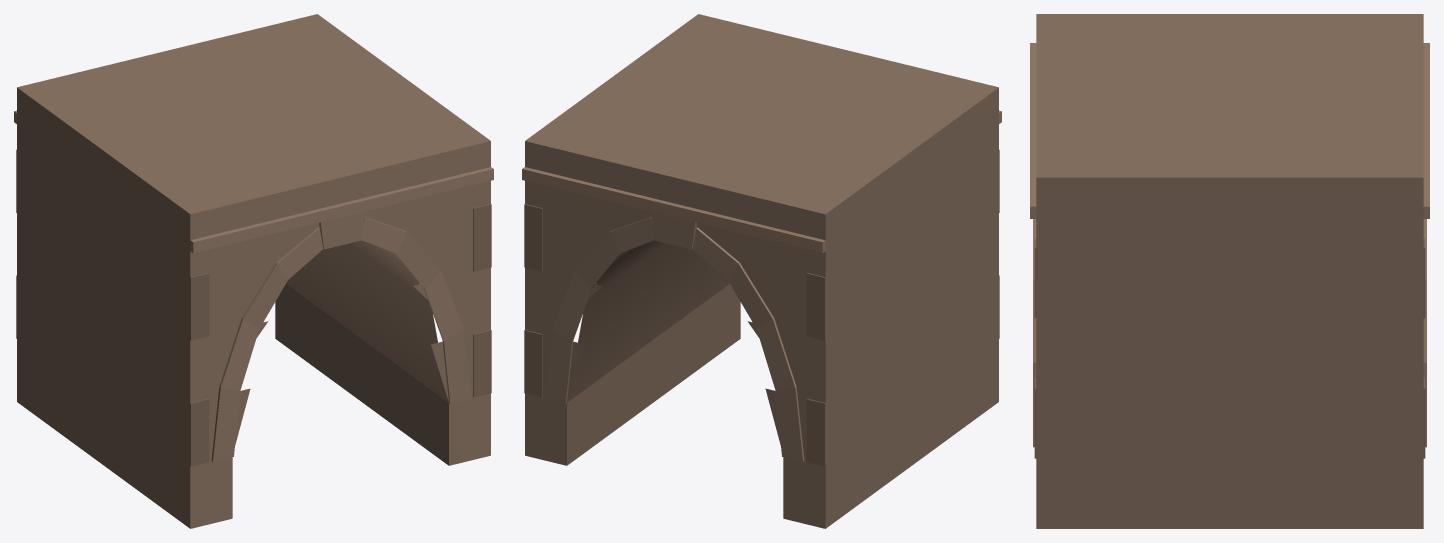
File: SM_Prop_bridge_arch_5_LOD1.glb
The picture shows the model from 3 angles, left to right: view 1: azimuth 30°, elevation 25°; view 2: azimuth 150°, elevation 25°; view 3: azimuth 270°, elevation 25°; orthographic projection. The views are drawn at different scales.
Parts seen in each view (by area): view 1: SM_Prop_bridge_arch_5_LOD1; view 2: SM_Prop_bridge_arch_5_LOD1; view 3: SM_Prop_bridge_arch_5_LOD1.
Boxes of the visible parts, box(x1,y1,x2,y2) form: SM_Prop_bridge_arch_5_LOD1: box(14, 14, 493, 528); SM_Prop_bridge_arch_5_LOD1: box(522, 14, 1001, 528); SM_Prop_bridge_arch_5_LOD1: box(1030, 14, 1429, 528).
Size of the model in its own units: 1 by 1 by 1.03.
